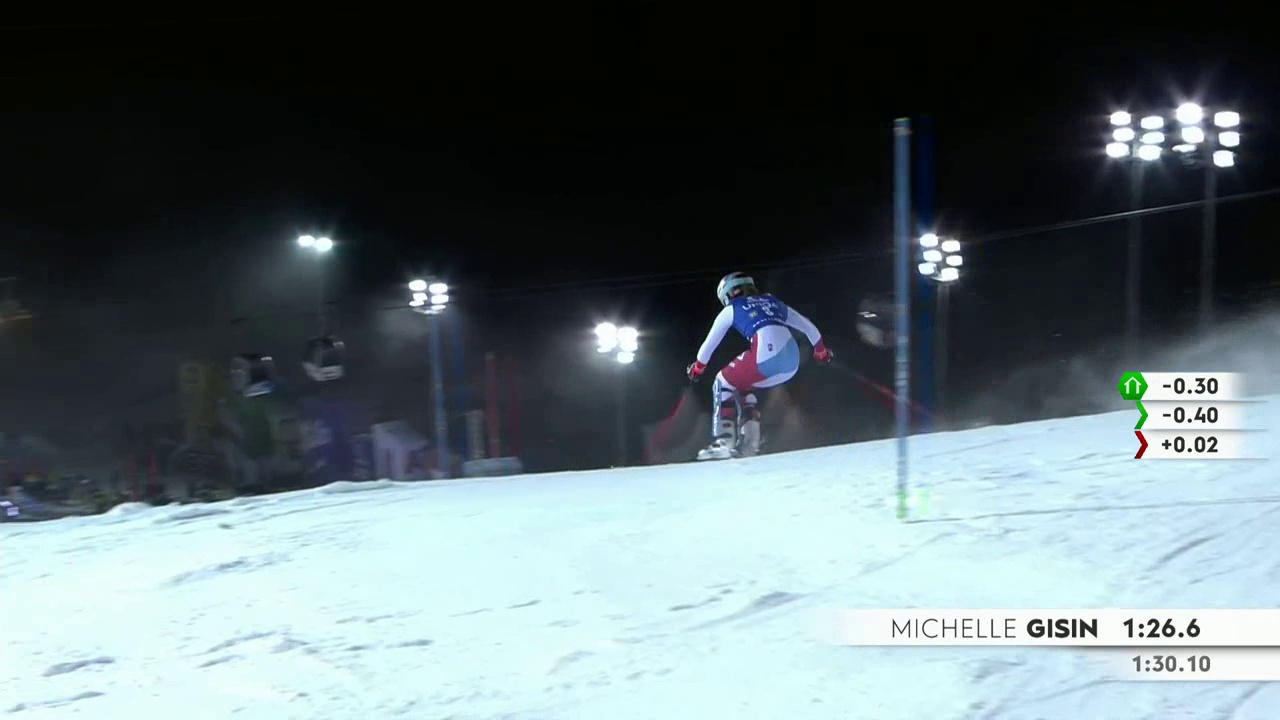uniqa: (739, 296, 782, 321)
